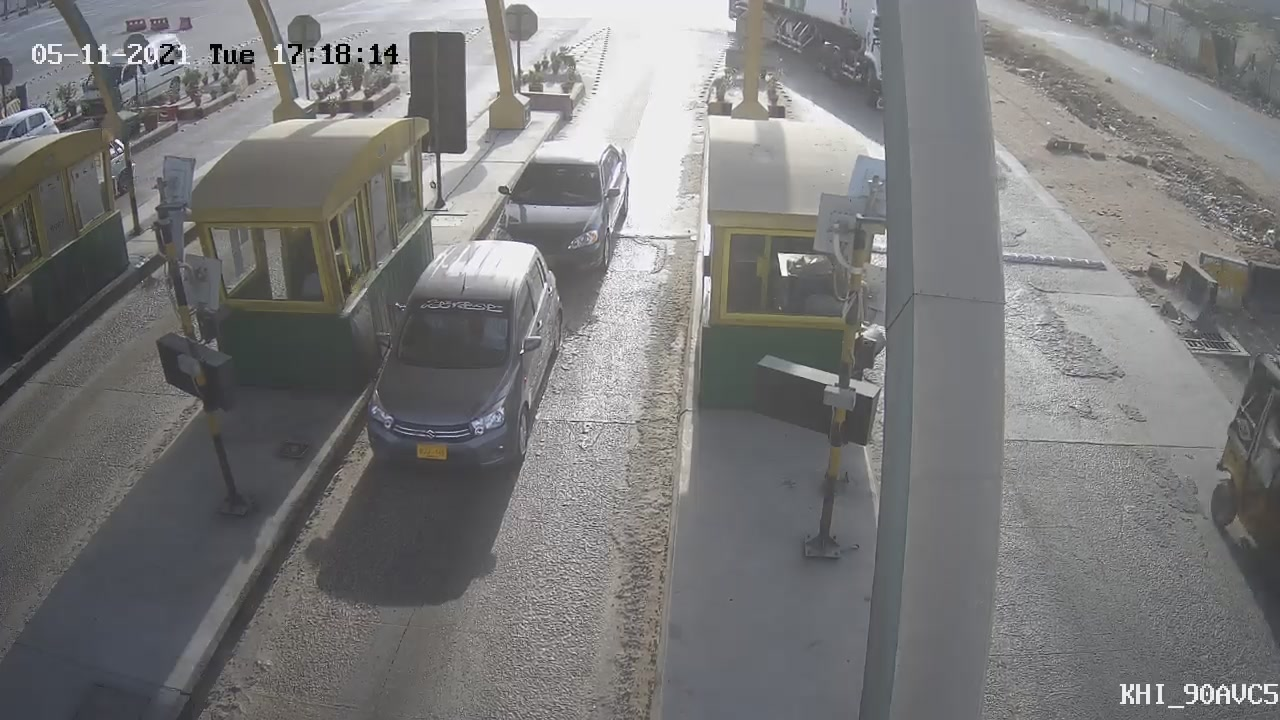F1: (339, 227, 577, 491), (479, 125, 642, 298)
